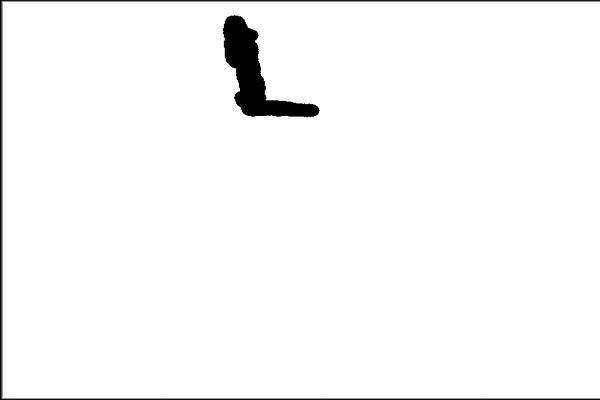L: (214, 9, 330, 124)
